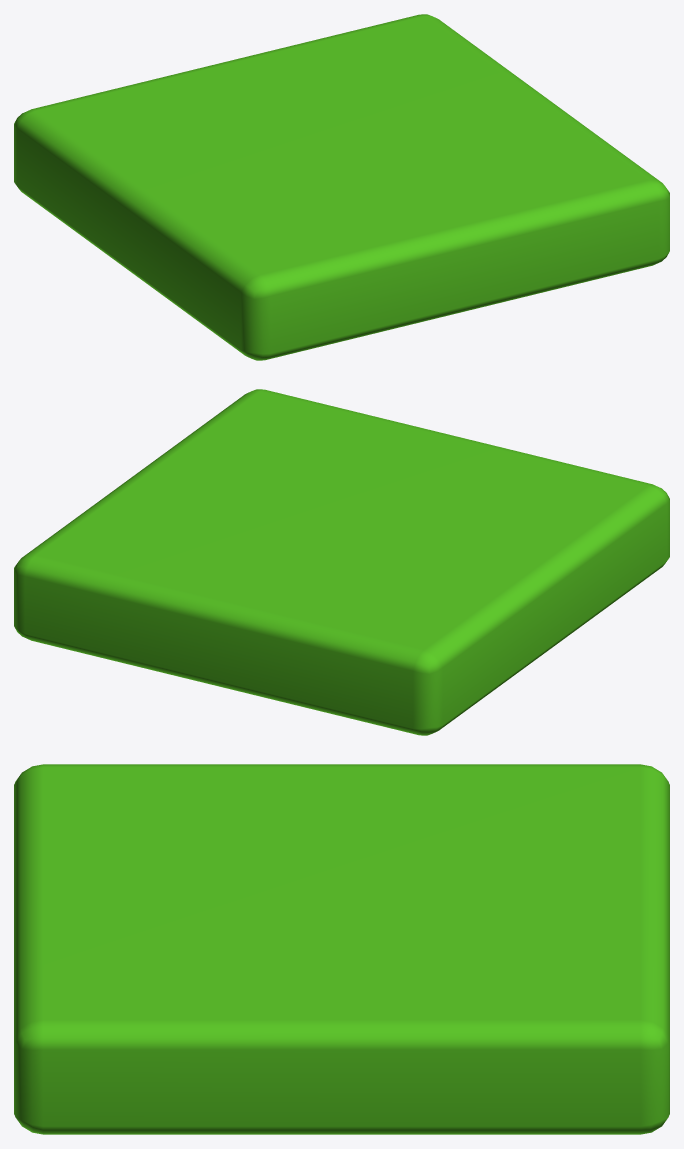
Rendered from Green_Box3.fbx.
The picture shows the model from 3 angles, top to bottom: view 1: azimuth 30°, elevation 25°; view 2: azimuth 150°, elevation 25°; view 3: azimuth 270°, elevation 25°; orthographic projection. The views are drawn at different scales.
Visible parts, largest first — view 1: Green_Box3; view 2: Green_Box3; view 3: Green_Box3.
Part boxes in pixels (<box>): Green_Box3: <box>14,14,669,360</box>; Green_Box3: <box>14,389,669,735</box>; Green_Box3: <box>14,764,669,1134</box>.
Size of the model in its own units: 124 by 23.27 by 124.
Materials: 1 (1 with a texture image).
